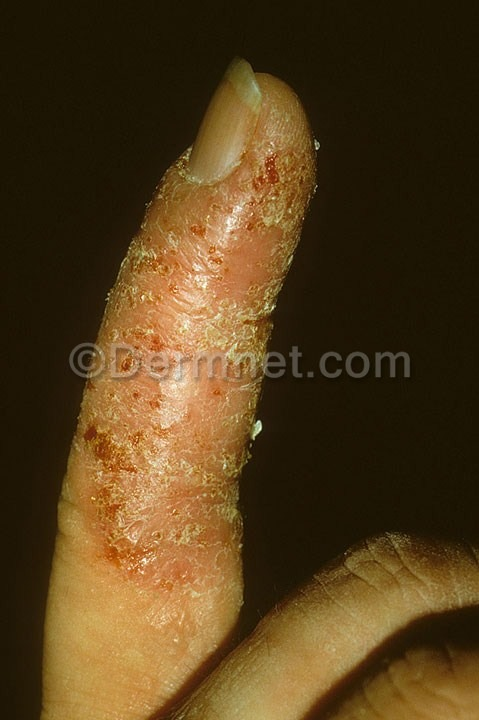Psoriasis: (87, 195, 258, 604), (243, 118, 319, 258)
